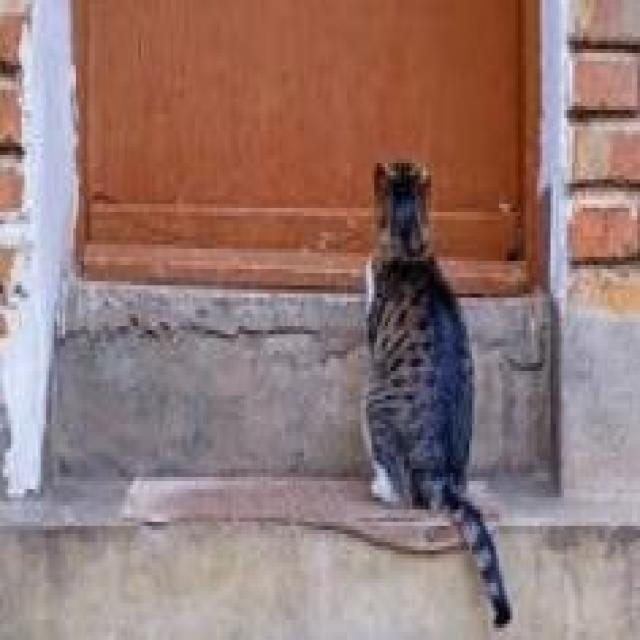Gato: (361, 151, 515, 628)
